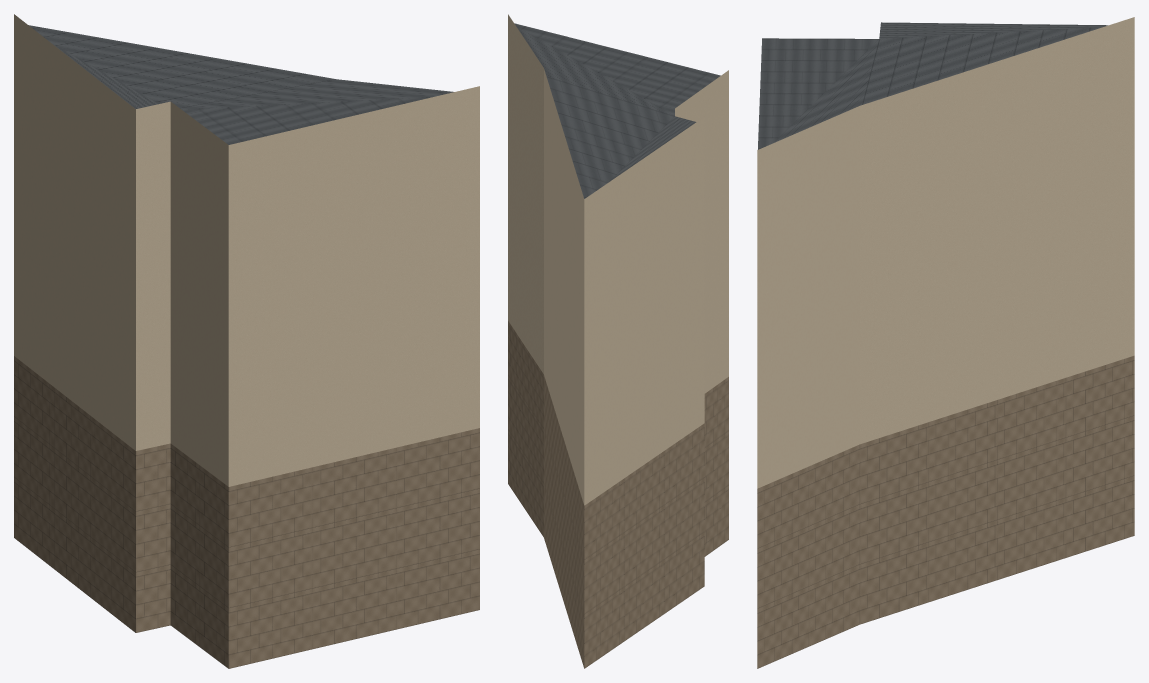
Rendered from bld_c-3_-2_549.gltf.
3 views of the same model, side by side, from view 1: azimuth 30°, elevation 25°; view 2: azimuth 150°, elevation 25°; view 3: azimuth 270°, elevation 25° (orthographic). The views are drawn at different scales.
Parts seen in each view (by area): view 1: bld_c-3_-2_549; view 2: bld_c-3_-2_549; view 3: bld_c-3_-2_549.
Part boxes in pixels (x1,y1,x2,y2): bld_c-3_-2_549: (14,14,479,668); bld_c-3_-2_549: (508,14,728,668); bld_c-3_-2_549: (757,17,1134,668).
Size of the model in its own units: 8.26 by 14.68 by 9.67.
Materials: 4 (4 with a texture image).
